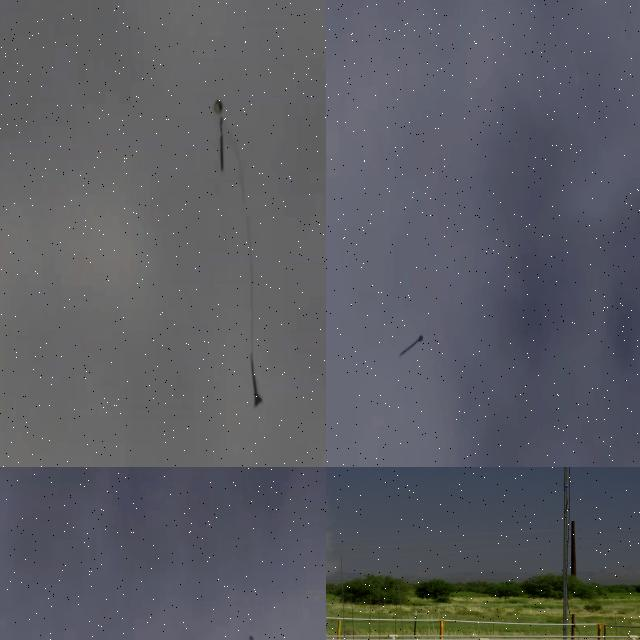Rocket: (250, 359, 262, 407), (400, 334, 423, 356)
